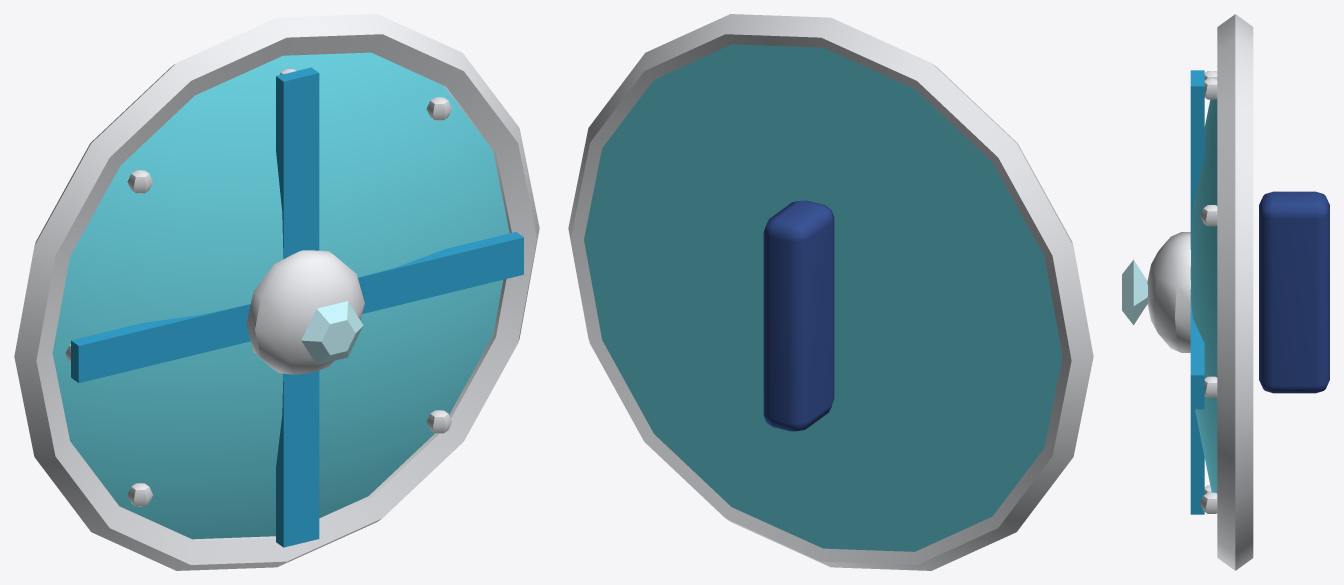
File: DiamondShield.fbx
3 renders of one model, left to right at view 1: azimuth 30°, elevation 25°; view 2: azimuth 150°, elevation 25°; view 3: azimuth 270°, elevation 25°, orthographic. The views are drawn at different scales.
Parts seen in each view (by area): view 1: DiamondShield; view 2: DiamondShield; view 3: DiamondShield.
Boxes of the visible parts, left/top/right/bottom form: DiamondShield: left=14, top=14, right=539, bottom=570; DiamondShield: left=568, top=14, right=1093, bottom=570; DiamondShield: left=1122, top=14, right=1329, bottom=570.
Bounding box in the file's own units: 2.36 × 2.36 × 0.88.
Materials: 1 (1 with a texture image).
